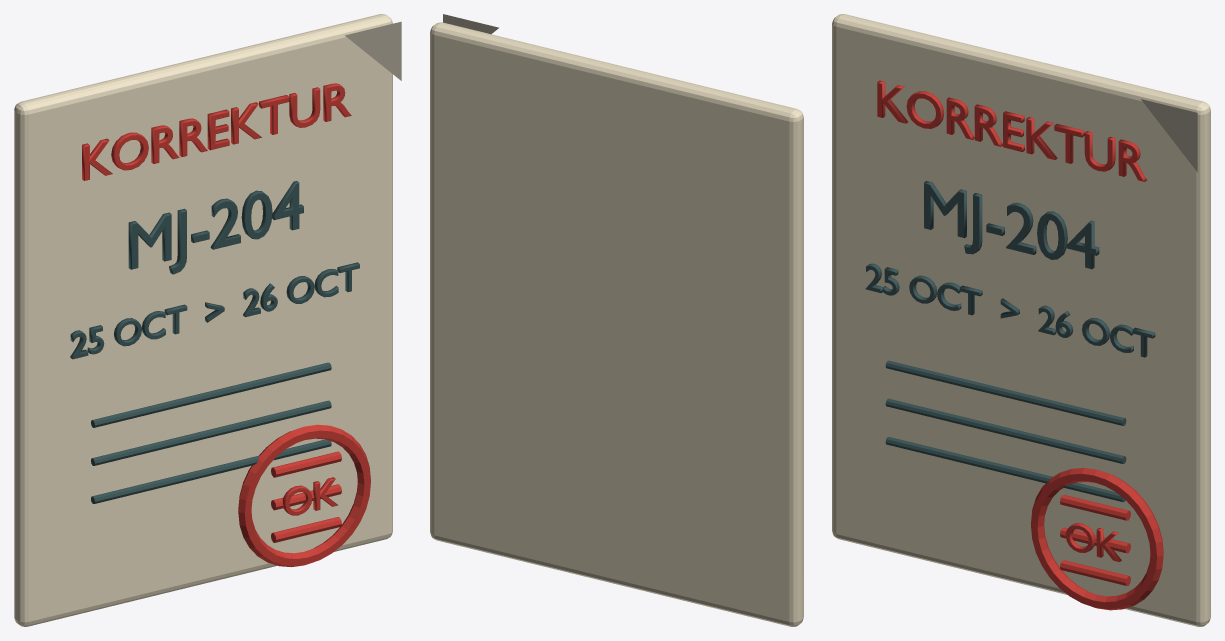
File: slip-stamped-v1-Dd7ssDkG.glb
3 renders of one model, left to right at view 1: azimuth 30°, elevation 25°; view 2: azimuth 150°, elevation 25°; view 3: azimuth 330°, elevation 25°, orthographic.
Parts seen in each view (by area): view 1: Document sheet, Document heading, Confirmed round stamp, Document number, Document date, Document line 1, Document line 2, Document line 3, Folded corner, Stamp letters, Confirmed round stamp bar -0.12, Confirmed round stamp bar 0.12; view 2: Document sheet; view 3: Document sheet, Document heading, Confirmed round stamp, Document number, Document date, Document line 1, Document line 2, Document line 3, Folded corner, Stamp letters, Confirmed round stamp bar 0.12, Confirmed round stamp bar -0.12.
Part boxes in pixels (x1,y1,x2,y2): Document sheet: (14,14,392,626); Document heading: (82,83,351,180); Confirmed round stamp: (238,424,370,567); Document number: (128,181,303,274); Document date: (70,262,359,359); Document line 1: (91,362,331,427); Document line 2: (91,400,331,465); Document line 3: (91,439,331,503); Folded corner: (345,21,401,80); Stamp letters: (282,477,337,515); Confirmed round stamp bar -0.12: (271,517,341,542); Confirmed round stamp bar 0.12: (271,451,341,477); Document sheet: (430,22,803,626); Document sheet: (832,14,1210,626); Document heading: (877,80,1146,181); Confirmed round stamp: (1031,468,1163,610); Document number: (924,181,1099,269); Document date: (865,263,1155,357); Document line 1: (885,360,1126,425); Document line 2: (885,398,1126,463); Document line 3: (885,437,1125,502); Folded corner: (1141,99,1197,171); Stamp letters: (1065,523,1121,561); Confirmed round stamp bar 0.12: (1060,495,1130,520); Confirmed round stamp bar -0.12: (1060,560,1130,585).
Size of the model in its own units: 1.44 by 1.92 by 0.16.
